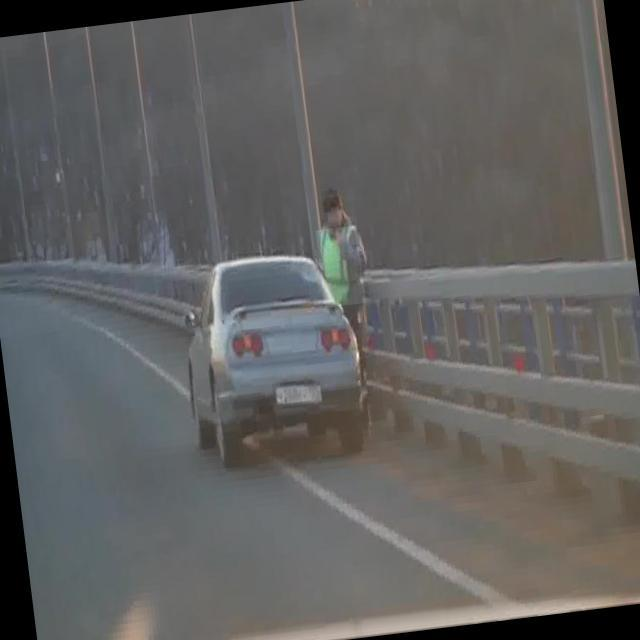Person: (304, 172, 389, 407)
Safety Vest: (315, 226, 365, 308)
no-helmet: (318, 184, 346, 213)
